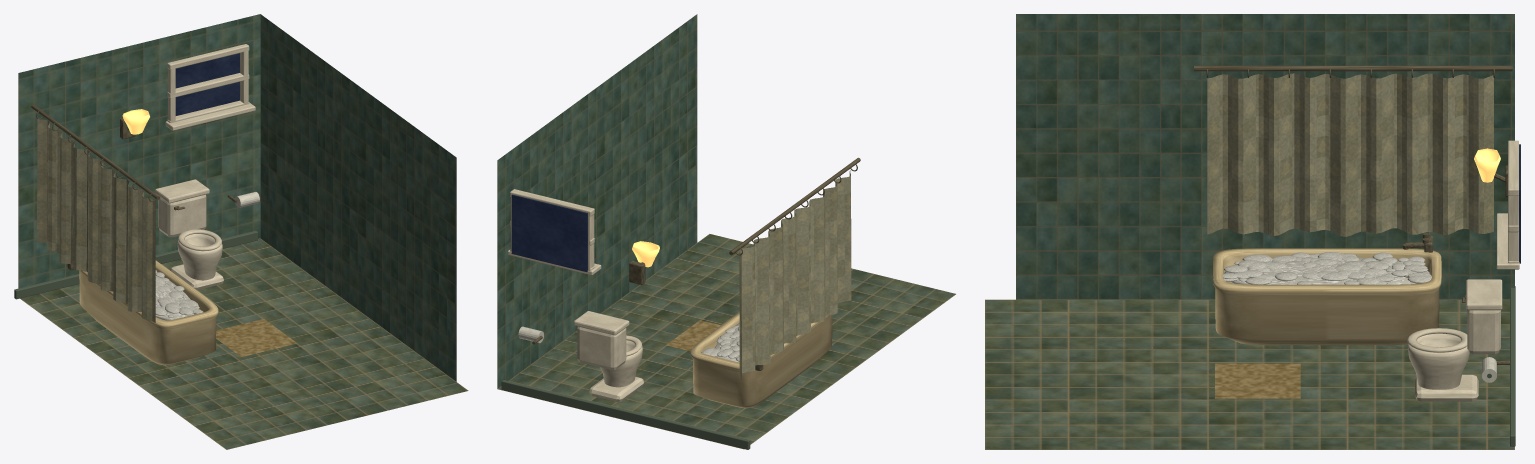
File: Bathroom_Set.glb
3 views of the same model, side by side, from view 1: azimuth 30°, elevation 25°; view 2: azimuth 150°, elevation 25°; view 3: azimuth 270°, elevation 25° (orthographic). The views are drawn at different scales.
Visible parts, largest first — view 1: Right_Wall, Floor, Wall_Window_Below, Curtain_Pleated, Wall_Window_Left, Wall_Window_Above, Tub_Enamel, Window_SkyPane, Bath_Mat, Toilet_Tank, Toilet_Bowl, Base_Trim (+11 smaller); view 2: Right_Wall, Floor, Curtain_Pleated, Tub_Enamel, Window_SkyPane, Base_Trim, Toilet_Tank, Toilet_Bowl, Toilet_Tank_Lid, Bath_Mat, Curtain_Rail, Toilet_Foot (+2 smaller); view 3: Left_Wall, Floor, Curtain_Pleated, Tub_Enamel, Bath_Mat, Toilet_Bowl, Curtain_Rail, Toilet_Tank, Water_And_Foam_Continuous, Toilet_Tank_Lid, Toilet_Foot, Base_Trim (+5 smaller).
Part boxes in pixels (<box>): Right_Wall: <box>260,14,456,381</box>; Floor: <box>20,238,468,449</box>; Wall_Window_Below: <box>18,99,260,288</box>; Curtain_Pleated: <box>37,119,155,322</box>; Wall_Window_Left: <box>18,66,167,158</box>; Wall_Window_Above: <box>18,14,260,101</box>; Tub_Enamel: <box>79,260,218,365</box>; Window_SkyPane: <box>175,53,239,115</box>; Bath_Mat: <box>216,319,297,356</box>; Toilet_Tank: <box>158,194,206,237</box>; Toilet_Bowl: <box>177,234,222,280</box>; Base_Trim: <box>14,230,257,299</box>; Right_Wall: <box>497,14,697,388</box>; Floor: <box>497,234,955,449</box>; Curtain_Pleated: <box>739,170,851,380</box>; Tub_Enamel: <box>690,312,832,408</box>; Window_SkyPane: <box>511,194,587,271</box>; Base_Trim: <box>501,380,750,449</box>; Toilet_Tank: <box>577,326,626,369</box>; Toilet_Bowl: <box>600,340,642,387</box>; Toilet_Tank_Lid: <box>574,311,629,335</box>; Bath_Mat: <box>666,320,720,351</box>; Curtain_Rail: <box>729,157,860,255</box>; Toilet_Foot: <box>589,377,643,401</box>; Left_Wall: <box>1016,14,1514,299</box>; Floor: <box>985,299,1514,449</box>; Curtain_Pleated: <box>1207,73,1493,236</box>; Tub_Enamel: <box>1213,248,1441,345</box>; Bath_Mat: <box>1215,363,1300,398</box>; Toilet_Bowl: <box>1408,333,1469,389</box>; Curtain_Rail: <box>1194,65,1512,71</box>; Toilet_Tank: <box>1467,310,1500,354</box>; Water_And_Foam_Continuous: <box>1224,257,1430,284</box>; Toilet_Tank_Lid: <box>1466,279,1502,310</box>; Toilet_Foot: <box>1415,374,1478,401</box>; Base_Trim: <box>1510,286,1515,446</box>.
Size of the model in its own units: 2.93 by 2.55 by 4.34.
Materials: 15 (13 with a texture image).
